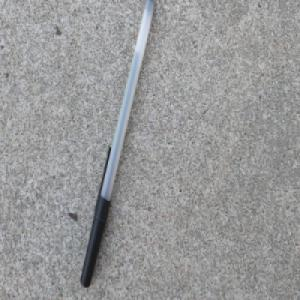Pen: (79, 0, 155, 289)
